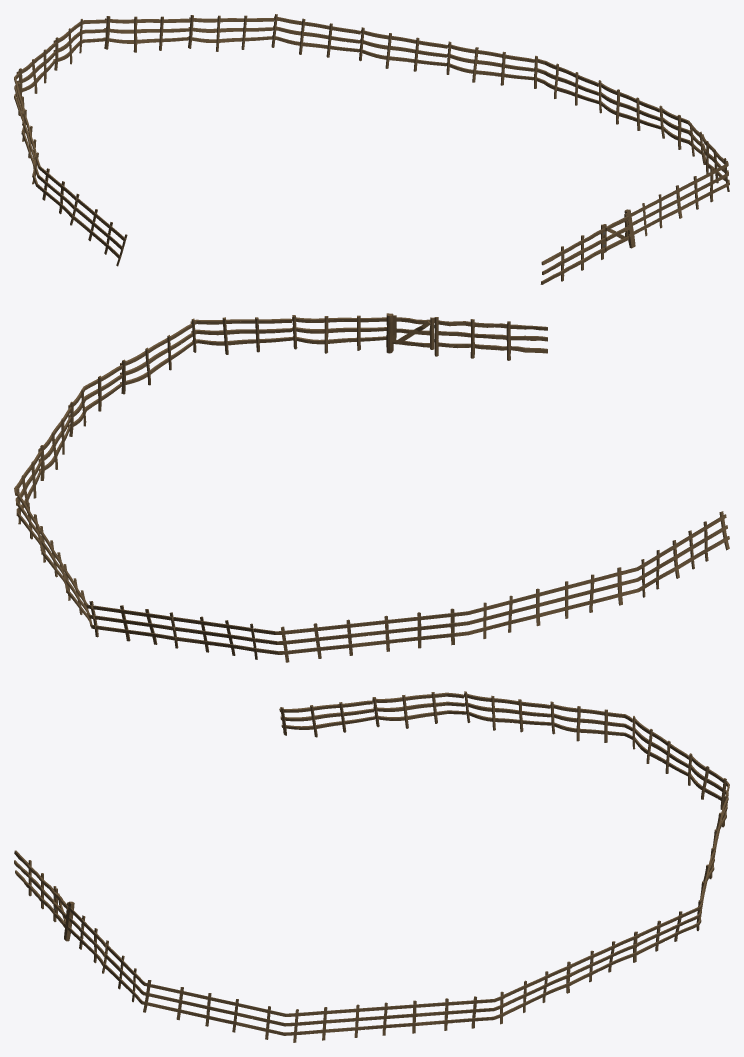
File: zaun_ekkelhaft.glb
3 views of the same model, one above another, from view 1: azimuth 30°, elevation 25°; view 2: azimuth 150°, elevation 25°; view 3: azimuth 270°, elevation 25° (orthographic). The views are drawn at different scales.
Visible parts, largest first — view 1: Cube.050, Cube.053, Cube.923; view 2: Cube.050, Cube.053, Cube.923; view 3: Cube.050, Cube.053.
Part boxes in pixels (x1,y1,x2,y2): Cube.050: (14, 14, 729, 266); Cube.053: (540, 228, 605, 284); Cube.923: (605, 213, 629, 251); Cube.050: (14, 315, 729, 662); Cube.053: (438, 320, 547, 353); Cube.923: (392, 315, 430, 347); Cube.050: (64, 691, 729, 1042); Cube.053: (14, 850, 54, 913).
Size of the model in its own units: 1.04 by 0.1448 by 1.1.
